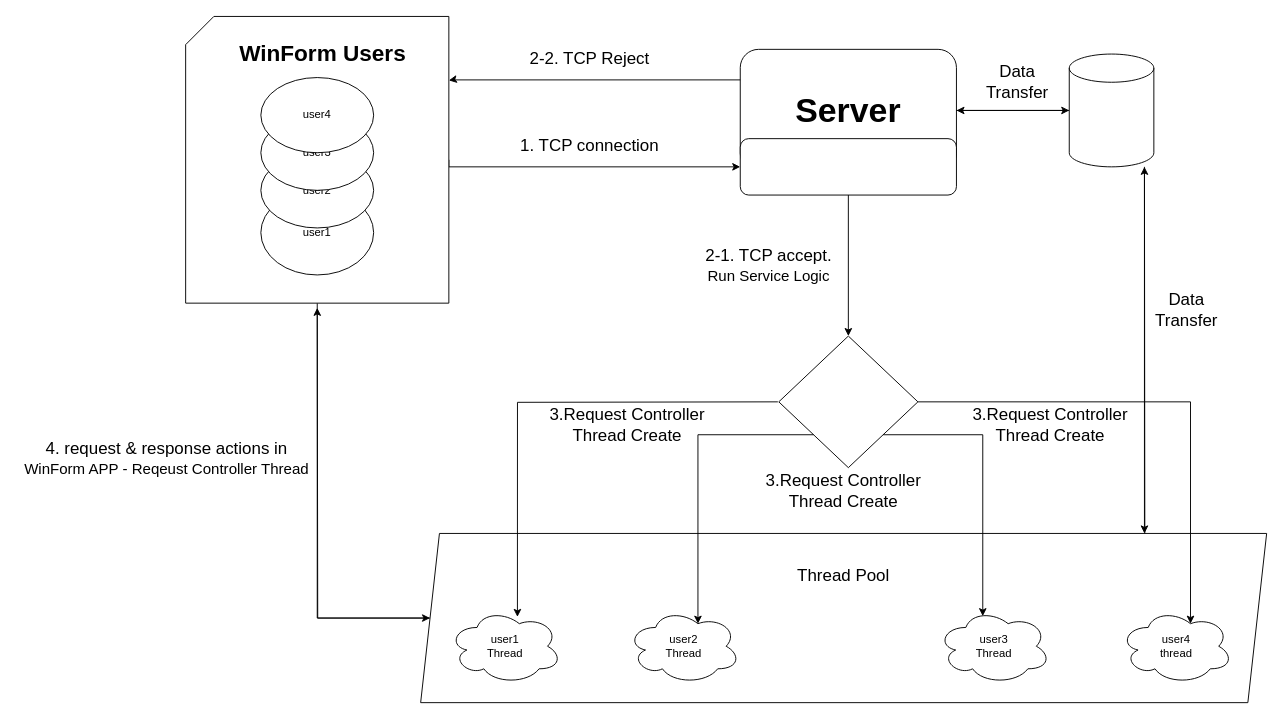
This 1283x719 diagram has some shape labels left out. The centre of each missing label's shape, as x and y in pixels:
"acceptRequestDeamon" goes at (847,166).
"DataBase" goes at (1111,110).
"RequestController" goes at (848,401).
